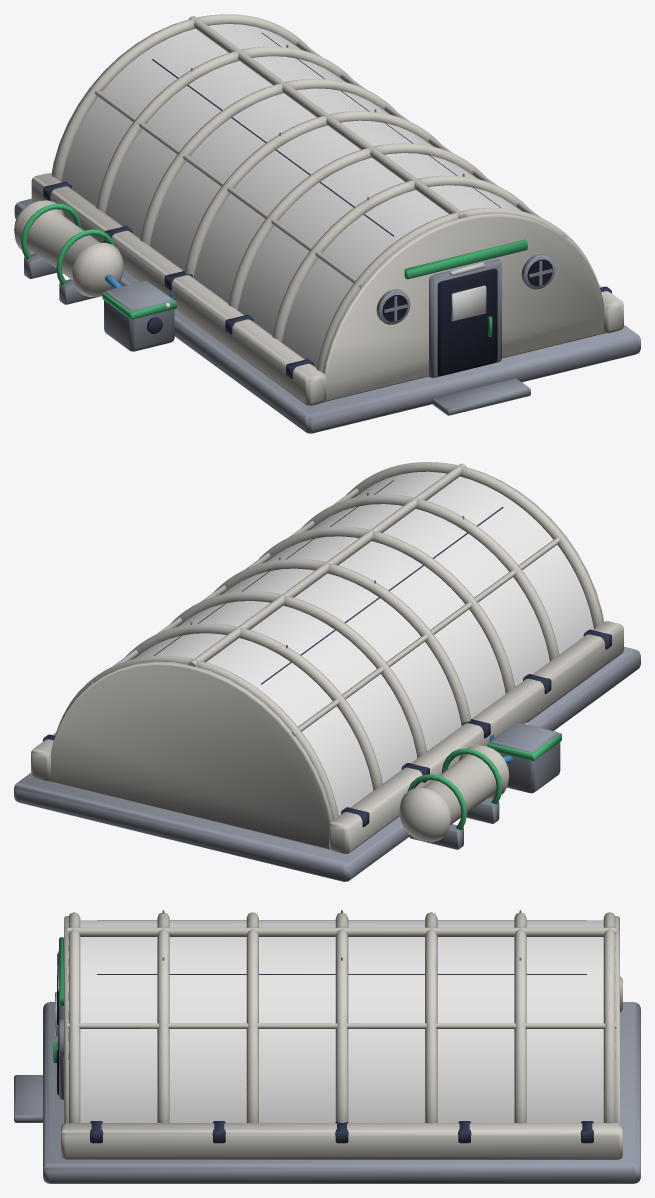
File: farm.glb
3 views of the same model, one above another, from view 1: azimuth 30°, elevation 25°; view 2: azimuth 150°, elevation 25°; view 3: azimuth 270°, elevation 25° (orthographic).
Visible parts, largest first — view 1: farm; view 2: farm; view 3: farm.
Boxes of the visible parts, left/top/right/bottom form: farm: left=14, top=14, right=640, bottom=433; farm: left=14, top=462, right=640, bottom=881; farm: left=14, top=910, right=640, bottom=1183.
Size of the model in its own units: 10.24 by 4.33 by 14.05.
